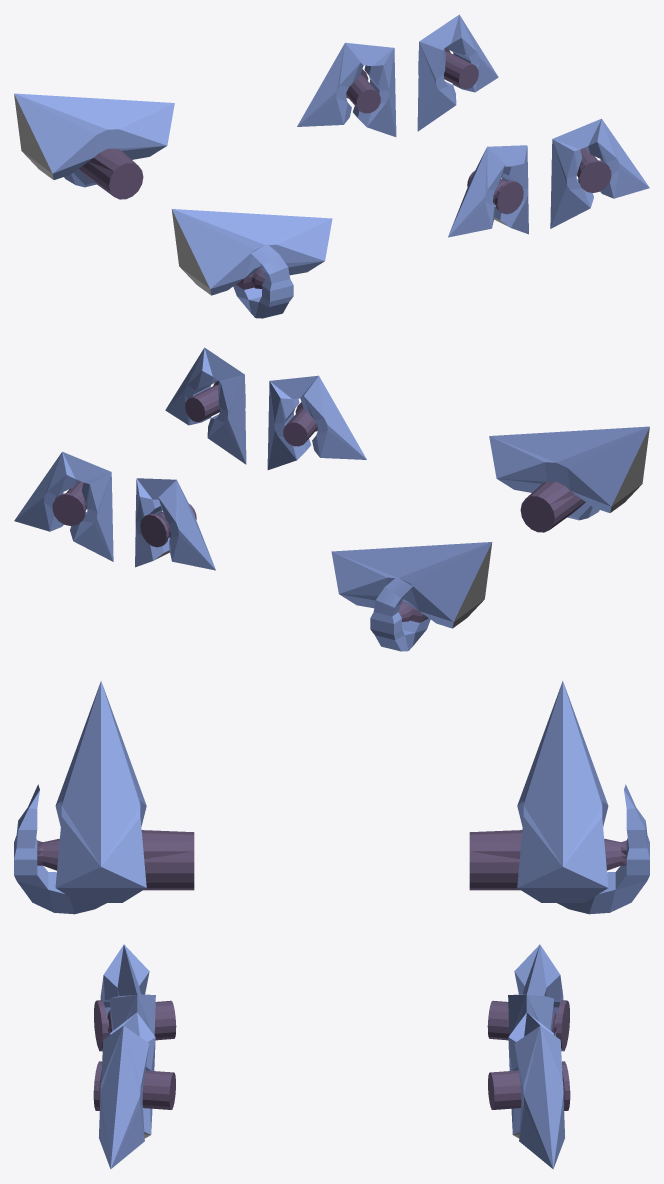
The model's file is SciFiThrusters.glb.
3 views of the same model, one above another, from view 1: azimuth 30°, elevation 25°; view 2: azimuth 150°, elevation 25°; view 3: azimuth 270°, elevation 25° (orthographic). The views are drawn at different scales.
Visible parts, largest first — view 1: ThrusterBack.HighTech, ThrusterFront.HighTech, ThrusterMid.HighTech; view 2: ThrusterBack.HighTech, ThrusterFront.HighTech, ThrusterMid.HighTech; view 3: ThrusterBack.HighTech, ThrusterFront.HighTech, ThrusterMid.HighTech.
Part boxes in pixels (<box>): ThrusterBack.HighTech: <box>14,93,332,318</box>; ThrusterFront.HighTech: <box>417,14,649,228</box>; ThrusterMid.HighTech: <box>297,42,528,237</box>; ThrusterBack.HighTech: <box>331,426,649,651</box>; ThrusterFront.HighTech: <box>14,347,246,561</box>; ThrusterMid.HighTech: <box>135,375,366,570</box>; ThrusterBack.HighTech: <box>14,681,649,914</box>; ThrusterFront.HighTech: <box>93,1012,570,1169</box>; ThrusterMid.HighTech: <box>94,944,569,1051</box>.
Size of the model in its own units: 42.42 by 10.53 by 33.14.
Materials: 3 (1 with a texture image).
